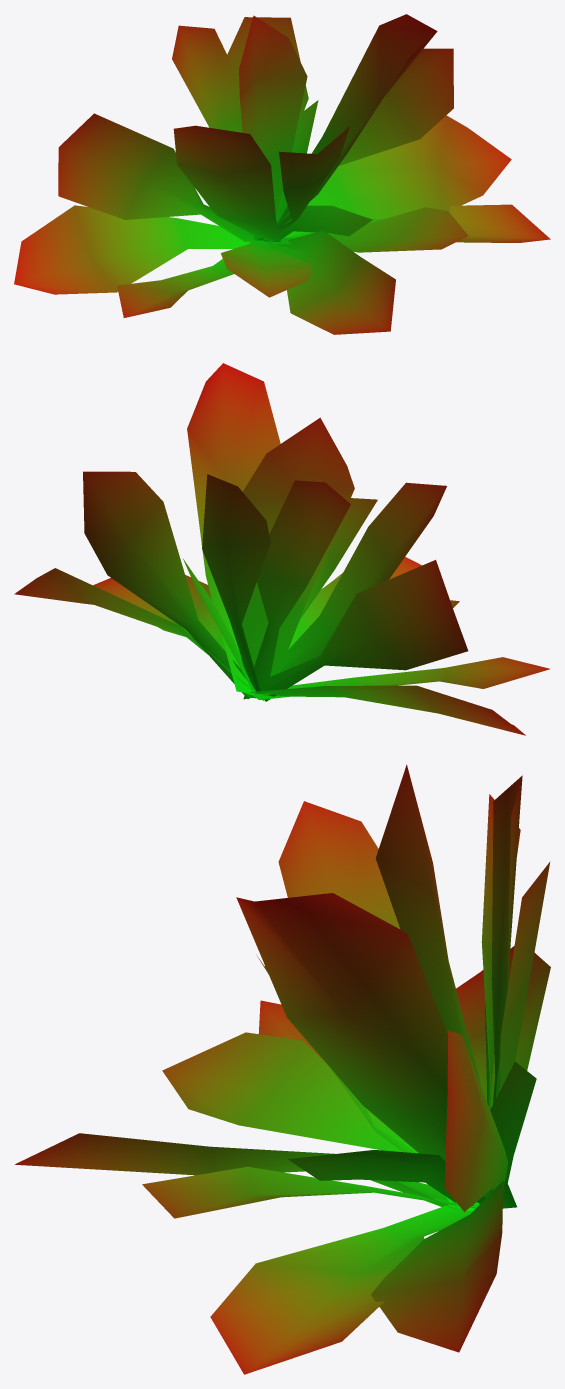
File: Var23_LOD1.fbx
The picture shows the model from 3 angles, top to bottom: view 1: azimuth 30°, elevation 25°; view 2: azimuth 150°, elevation 25°; view 3: azimuth 270°, elevation 25°; orthographic projection. The views are drawn at different scales.
Visible parts, largest first — view 1: _8e79_Var23_LOD1; view 2: _8e79_Var23_LOD1; view 3: _8e79_Var23_LOD1.
Part boxes in pixels (left/top/right/bottom): _8e79_Var23_LOD1: left=14, top=14, right=550, bottom=334; _8e79_Var23_LOD1: left=14, top=363, right=549, bottom=735; _8e79_Var23_LOD1: left=15, top=764, right=550, bottom=1374.
Bounding box in the file's own units: 16.77 × 8.48 × 9.6.
